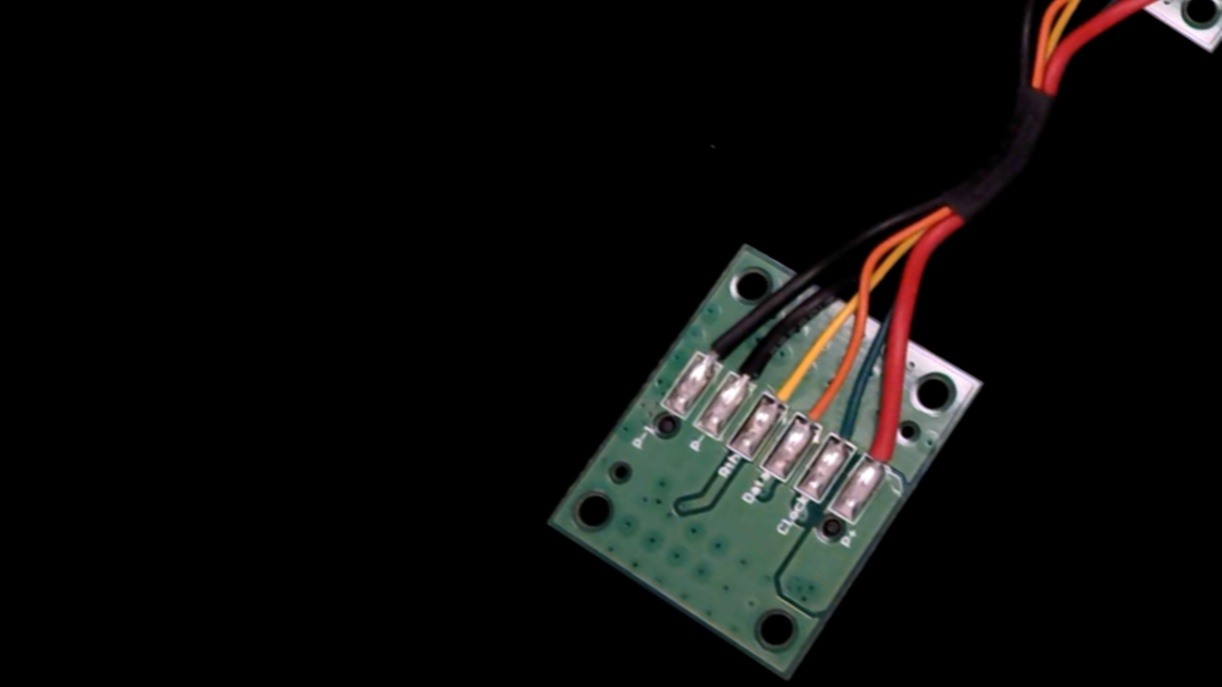Black: (718, 325, 794, 405)
Black1: (686, 307, 757, 381)
Green: (816, 400, 880, 467)
Orange: (784, 373, 852, 445)
Red: (846, 411, 919, 490)
Yellow: (753, 343, 829, 425)
